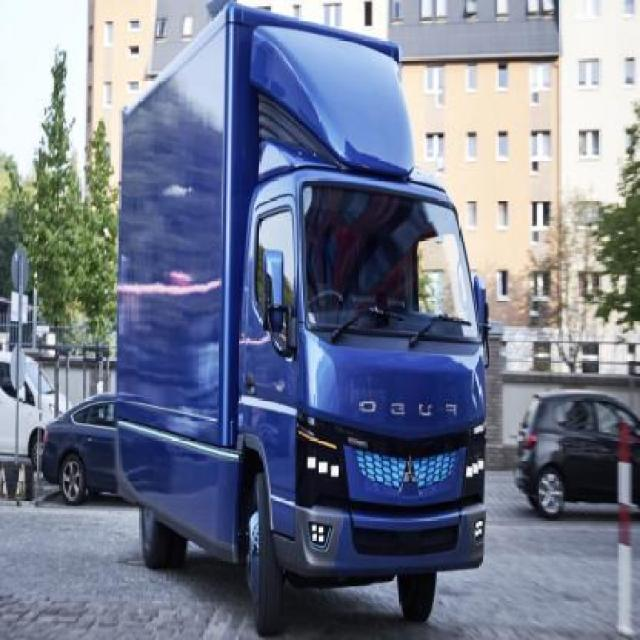truck: (121, 5, 490, 628)
